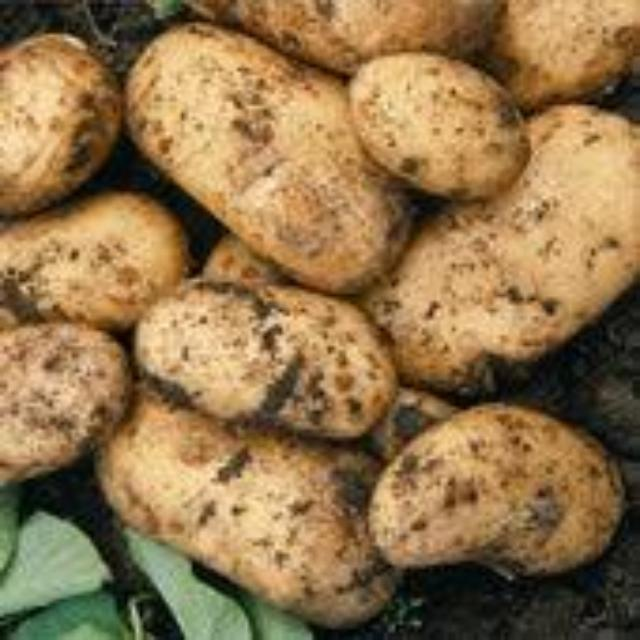Potato: (352, 97, 636, 390), (120, 17, 412, 292), (90, 385, 404, 627), (360, 392, 626, 574), (0, 192, 188, 341), (348, 55, 534, 205), (0, 306, 134, 480)
